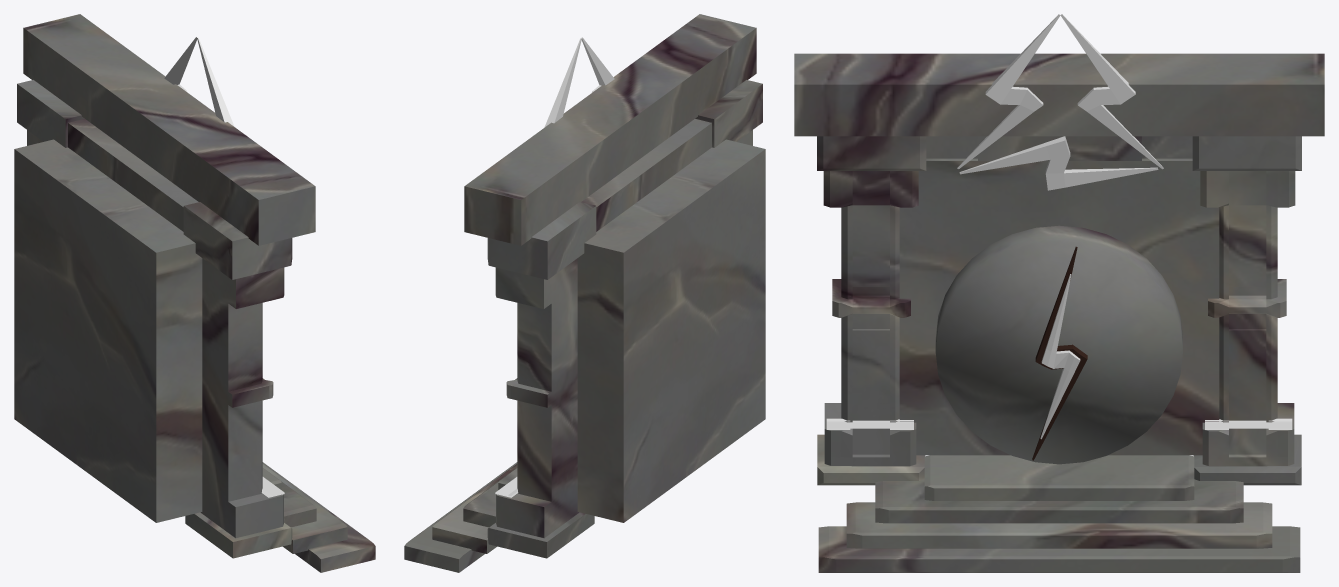
Rendered from ShrineDoor_Blue.fbx.
The picture shows the model from 3 angles, left to right: view 1: azimuth 30°, elevation 25°; view 2: azimuth 150°, elevation 25°; view 3: azimuth 270°, elevation 25°; orthographic projection. The views are drawn at different scales.
Visible parts, largest first — view 1: Cube.004, Cube.009; view 2: Cube.004, Cube.009; view 3: Cube.004, Cube.009.
Part boxes in pixels (bbox=[...]): Cube.004: bbox=[14, 14, 375, 572]; Cube.009: bbox=[164, 36, 284, 497]; Cube.004: bbox=[404, 14, 765, 572]; Cube.009: bbox=[495, 37, 614, 497]; Cube.004: bbox=[794, 53, 1324, 572]; Cube.009: bbox=[826, 14, 1292, 460].
Size of the model in its own units: 2965 by 7047 by 6518.
